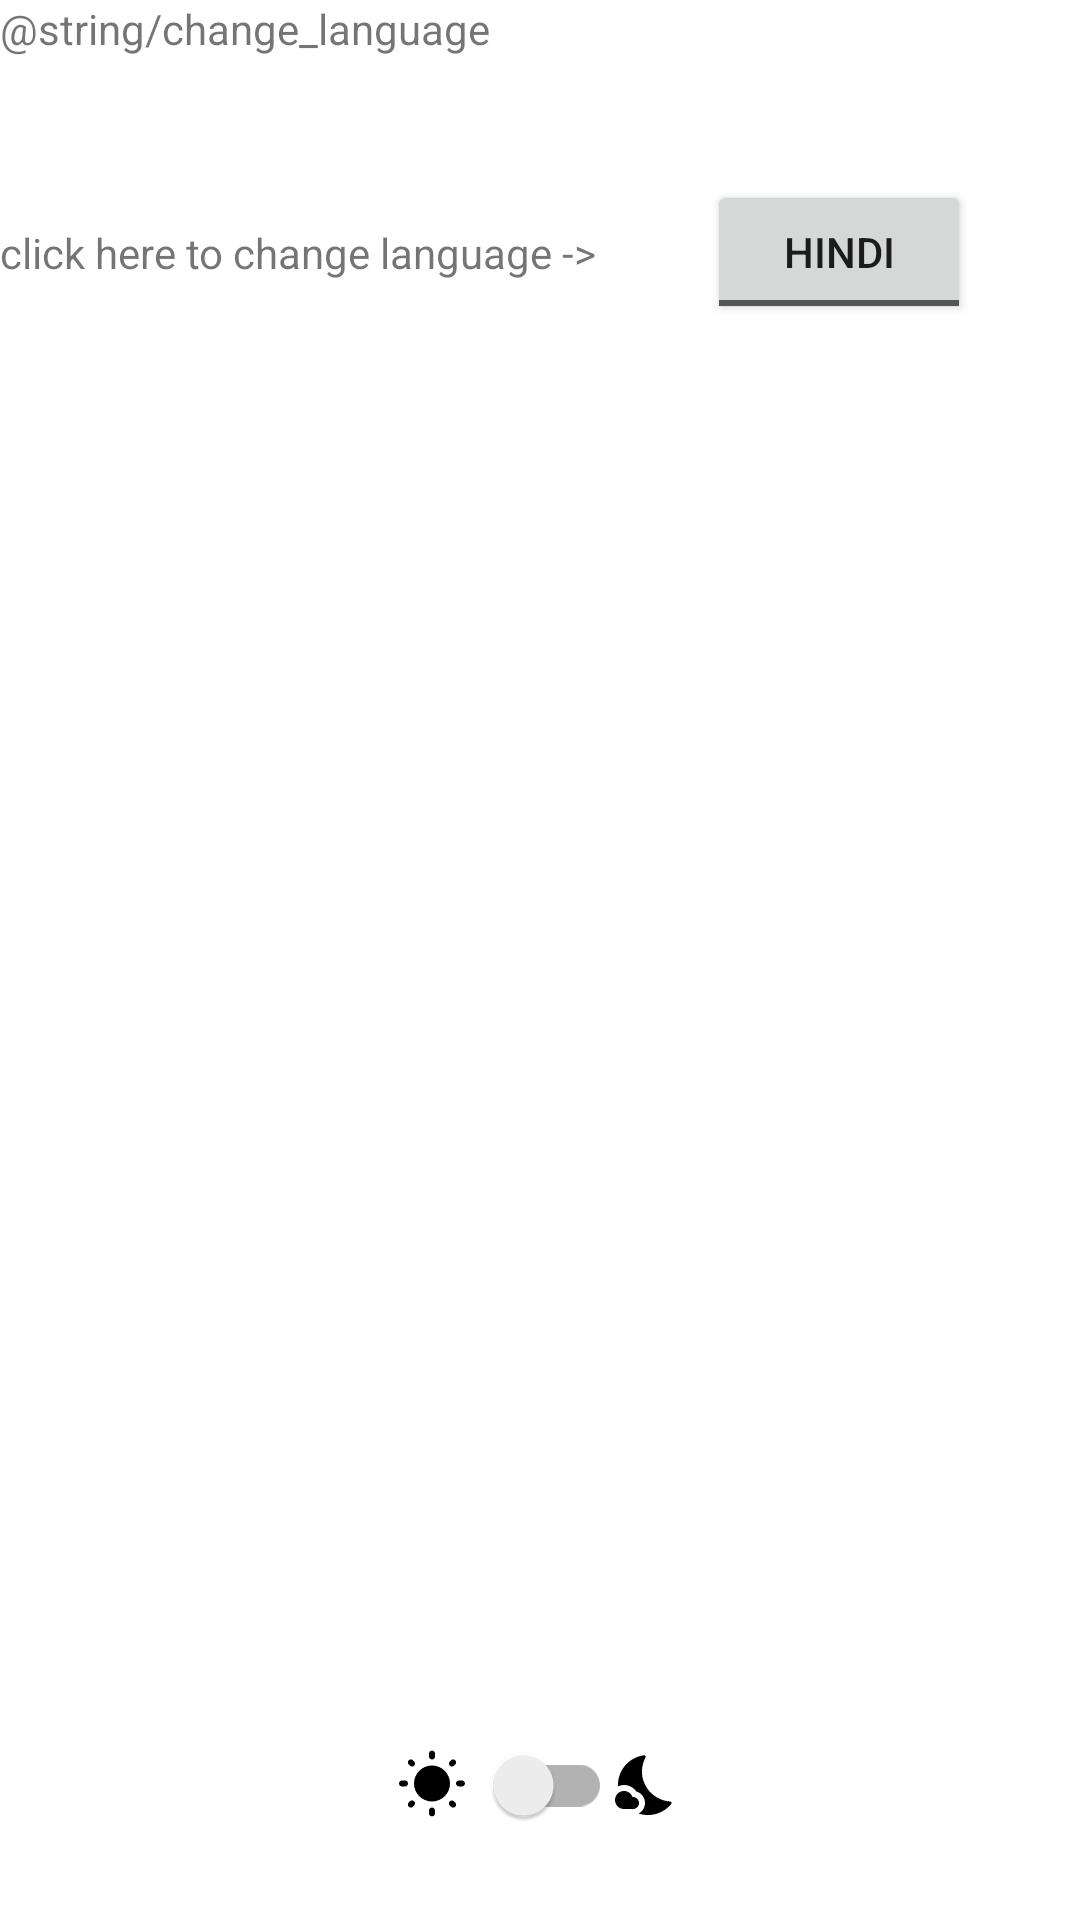

Where icons sit on this 1080×1920 app screen, as (x1, y1, x2, y2):
nights stay: (615, 1755, 672, 1815)
sunny: (399, 1750, 465, 1817)
